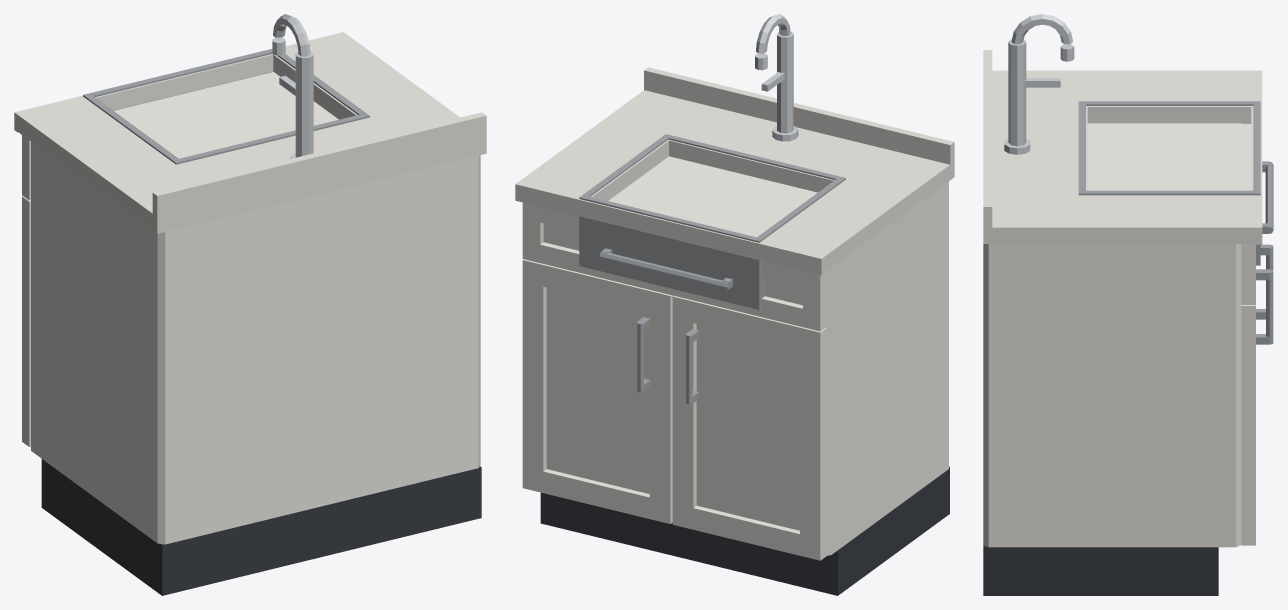
The model's file is SM_LPI_Kitchen_SinkBase_01.fbx.
3 renders of one model, left to right at view 1: azimuth 30°, elevation 25°; view 2: azimuth 150°, elevation 25°; view 3: azimuth 270°, elevation 25°, orthographic. The views are drawn at different scales.
Visible parts, largest first — view 1: SM_LPI_Kitchen_SinkBase_01; view 2: SM_LPI_Kitchen_SinkBase_01; view 3: SM_LPI_Kitchen_SinkBase_01.
Boxes of the visible parts, <box> form: SM_LPI_Kitchen_SinkBase_01: <box>14,14,486,595</box>; SM_LPI_Kitchen_SinkBase_01: <box>515,14,954,595</box>; SM_LPI_Kitchen_SinkBase_01: <box>983,14,1273,595</box>.
Bounding box in the file's own units: 0.816 × 1.23 × 0.639.
